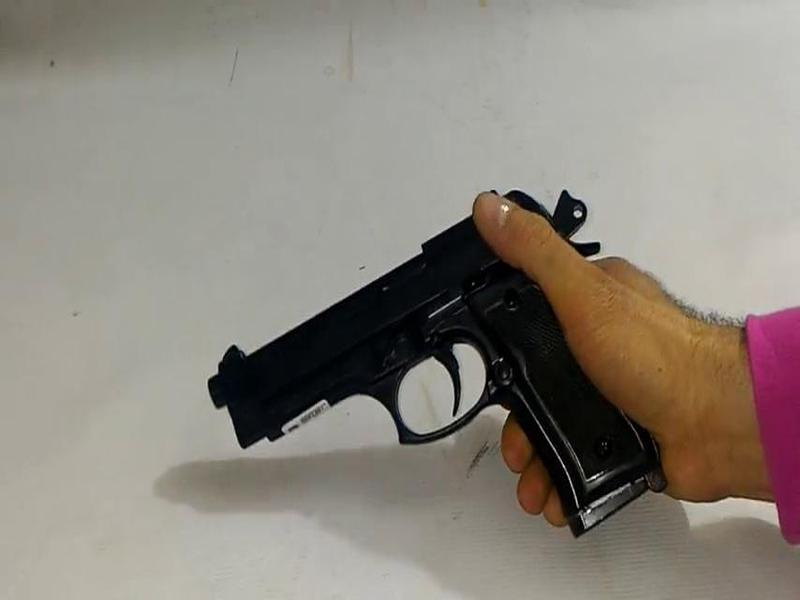Pistola: (198, 180, 679, 553)
